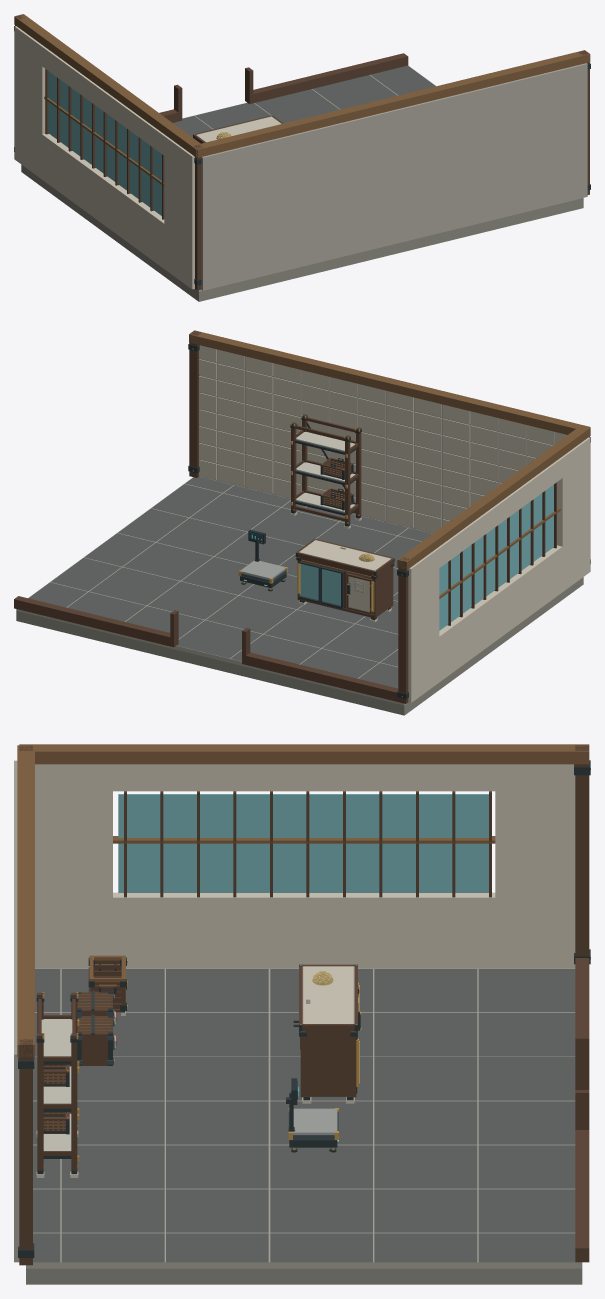
Rendered from visual-far.glb.
The picture shows the model from 3 angles, top to bottom: view 1: azimuth 30°, elevation 25°; view 2: azimuth 150°, elevation 25°; view 3: azimuth 270°, elevation 25°; orthographic projection. The views are drawn at different scales.
Parts seen in each view (by area): view 1: 真实窗洞、木梁与切角房间墙, 分层实心台基与独立石铺面, 商铺公共售货柜台; view 2: 真实窗洞、木梁与切角房间墙, 分层实心台基与独立石铺面, 商铺公共售货柜台, 商铺货架框架, 称量设备与磅秤; view 3: 分层实心台基与独立石铺面, 真实窗洞、木梁与切角房间墙, 商铺公共售货柜台, 商铺货架框架, 杂货包装箱 (×2), 称量设备与磅秤, 农作物采收容器.
Boxes of the visible parts, box(x1,y1,x2,y2) form: 真实窗洞、木梁与切角房间墙: box(14, 14, 590, 290); 分层实心台基与独立石铺面: box(21, 65, 583, 301); 商铺公共售货柜台: box(193, 115, 283, 143); 真实窗洞、木梁与切角房间墙: box(14, 330, 590, 703); 分层实心台基与独立石铺面: box(16, 476, 583, 715); 商铺公共售货柜台: box(295, 538, 394, 622); 商铺货架框架: box(290, 414, 361, 528); 称量设备与磅秤: box(238, 529, 287, 591); 分层实心台基与独立石铺面: box(26, 968, 582, 1284); 真实窗洞、木梁与切角房间墙: box(14, 744, 590, 1265); 商铺公共售货柜台: box(293, 964, 361, 1103); 商铺货架框架: box(36, 992, 79, 1177); 杂货包装箱 (×2): box(77, 990, 116, 1065); 称量设备与磅秤: box(286, 1078, 338, 1152); 农作物采收容器: box(88, 955, 127, 1015).
Bounding box in the file's own units: 8.24 × 3.08 × 6.64.
24 materials, 24 textured.
